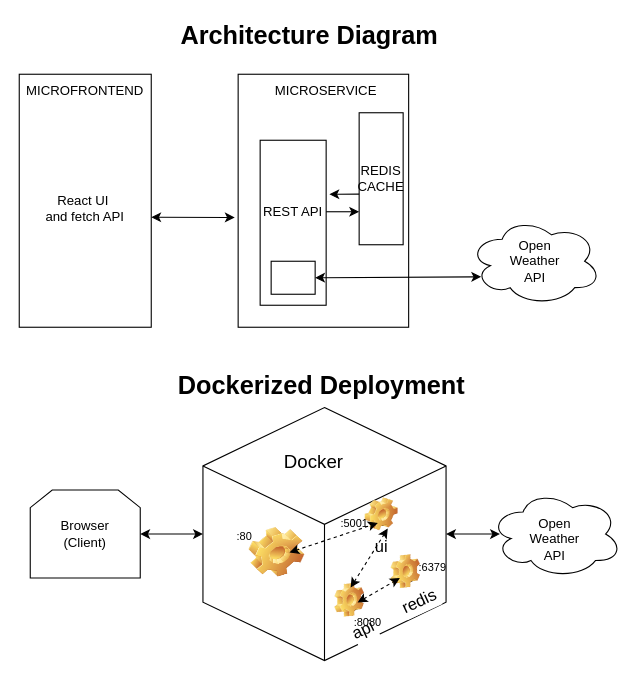
This 641x680 diagram has some shape labels left out. Here are the shapes that lost their labels. From the top down, the centre of each, then its label:
At point (292, 277): "okhttp3".
At point (276, 551): "nginx".
